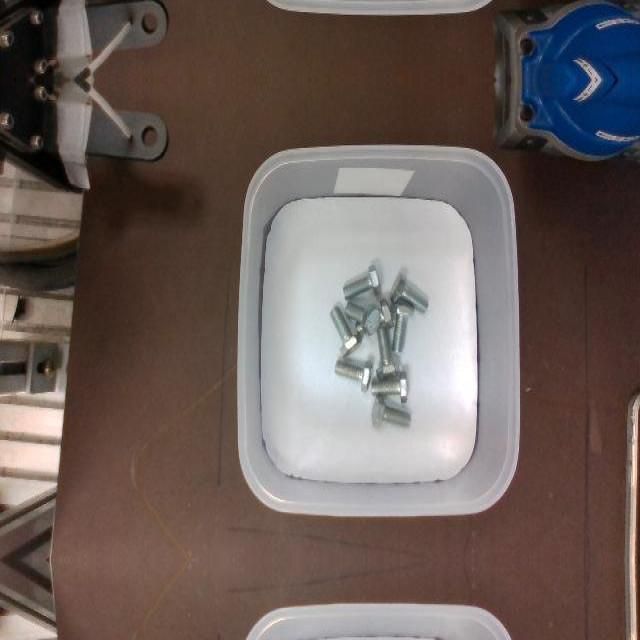screw: (329, 305, 362, 355), (389, 274, 428, 314), (342, 264, 380, 300), (371, 393, 410, 427), (375, 325, 399, 379), (334, 359, 372, 393), (343, 301, 379, 335), (390, 303, 414, 353), (371, 371, 408, 403)
